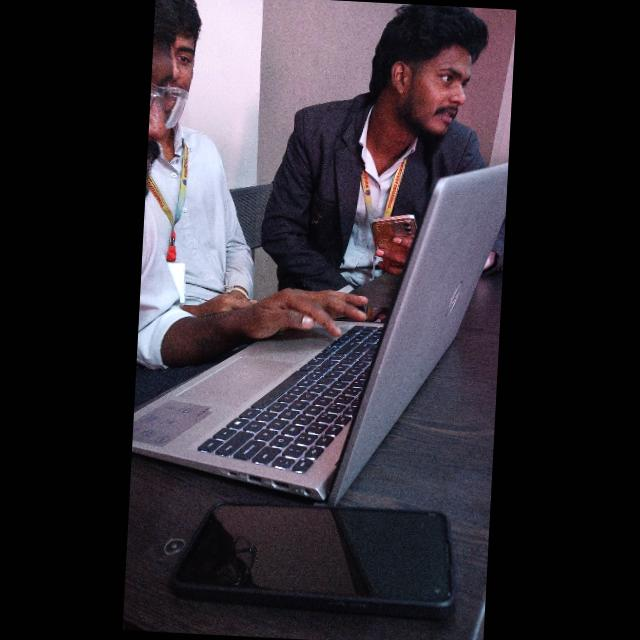laptop: (130, 134, 506, 504)
